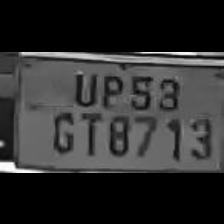1: (160, 111, 184, 158)
3: (184, 111, 214, 158), (154, 73, 180, 109)
5: (124, 68, 154, 108)
7: (131, 110, 158, 156)
8: (104, 110, 130, 156)
G: (48, 106, 76, 154)
P: (96, 68, 124, 106)
T: (77, 108, 103, 156)
U: (68, 66, 98, 106)
